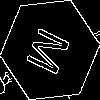M: (25, 25, 79, 82)
